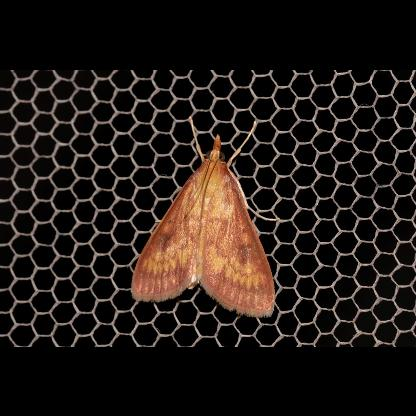Asian Corn Borer Moth: (128, 114, 282, 320)
